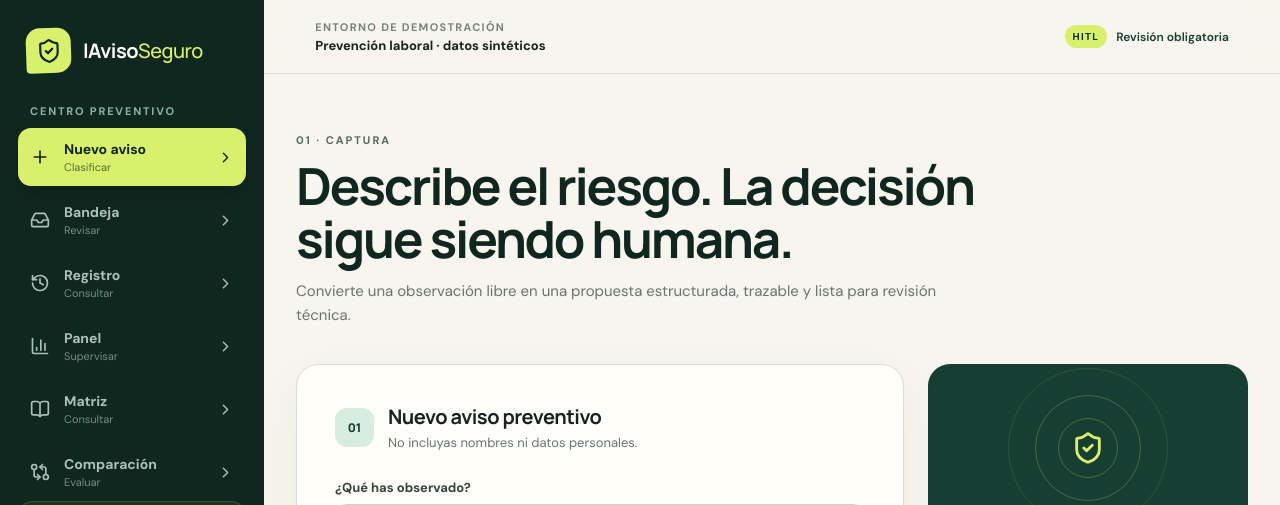
Test: IAviso Seguro › compara velocidad solo con resultados válidos: ambos válidos y Ollama más rápido
Click the button "Comparación Evaluar" at (132, 472), box [18,443,246,501]
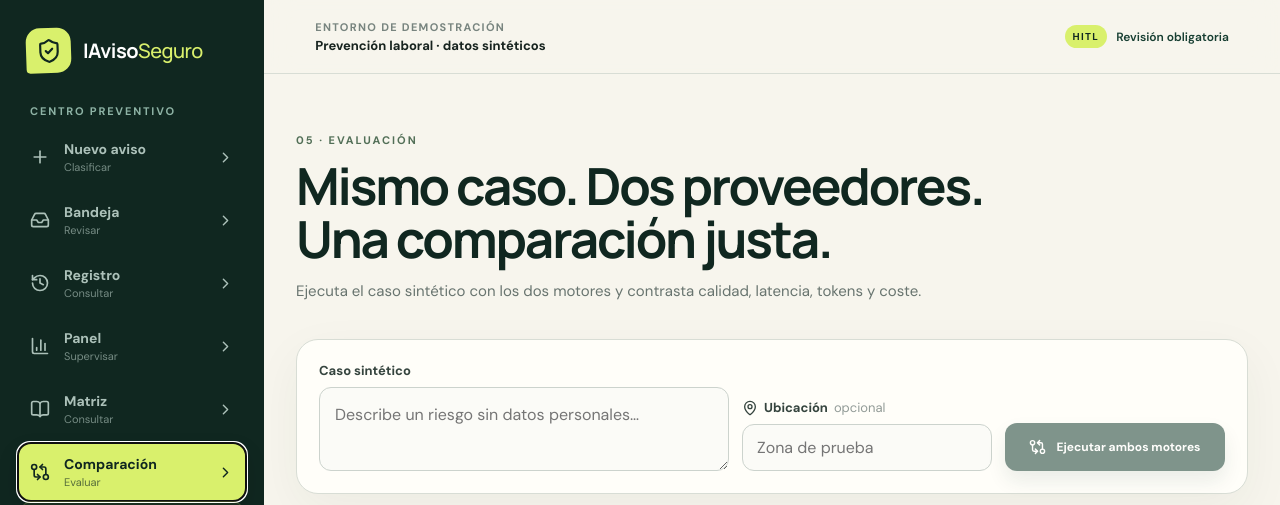
Type "Cable expuesto" into the text box labelled "Caso sintético" at (524, 429), box [319,387,729,471]
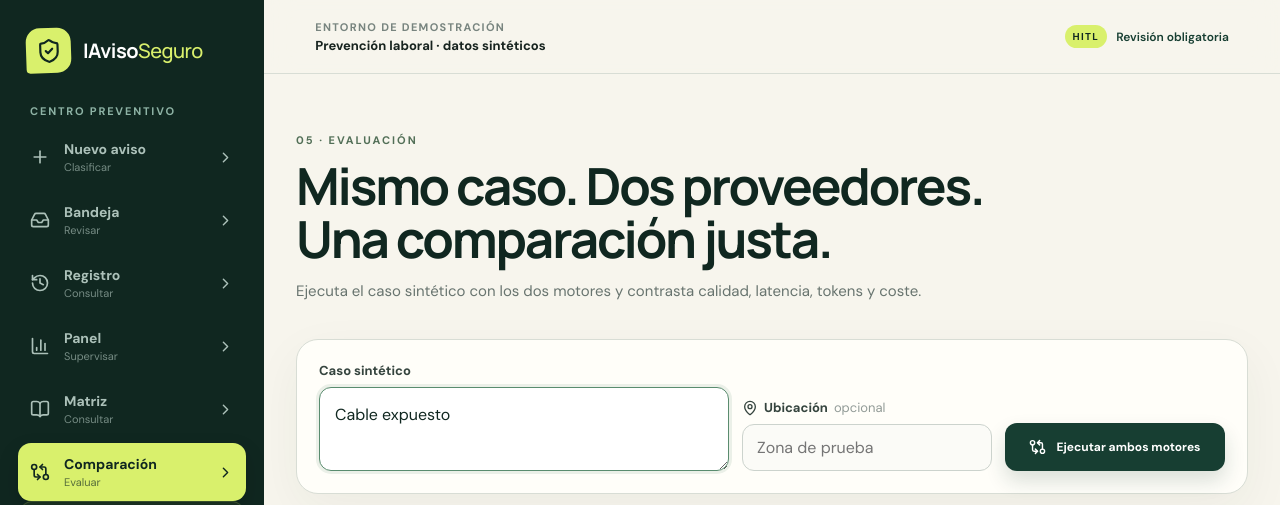
Click the button "Ejecutar ambos motores" at (1115, 447), box [1005,423,1225,471]
(page scrolled)
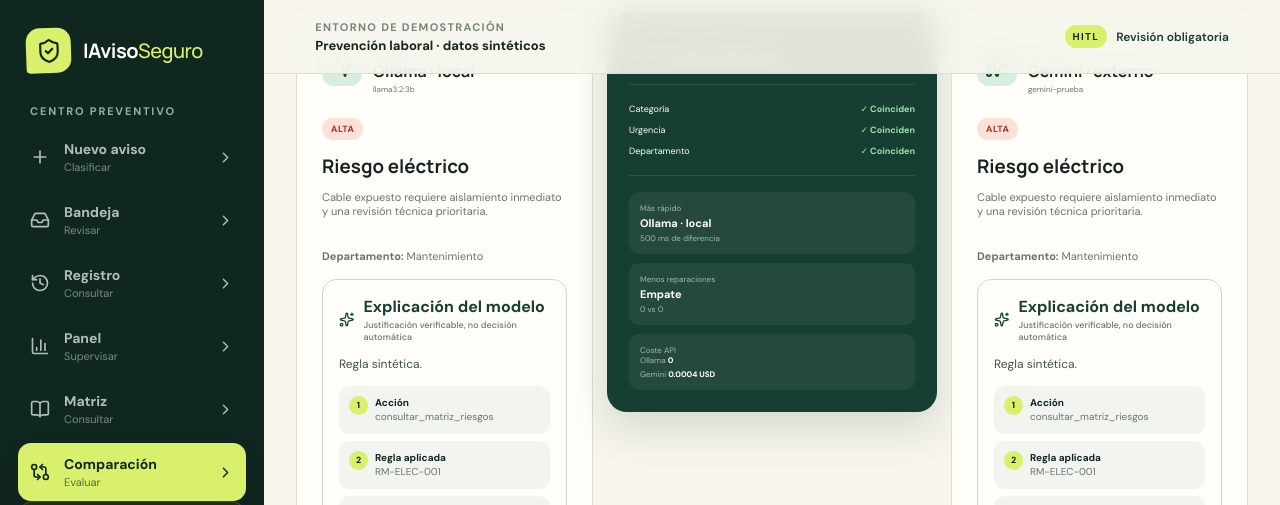
Now the text "Ollama · local" is shown, box [640,216,711,230]
Now the text "0" below "Coste API" is shown, box [668,355,673,365]
